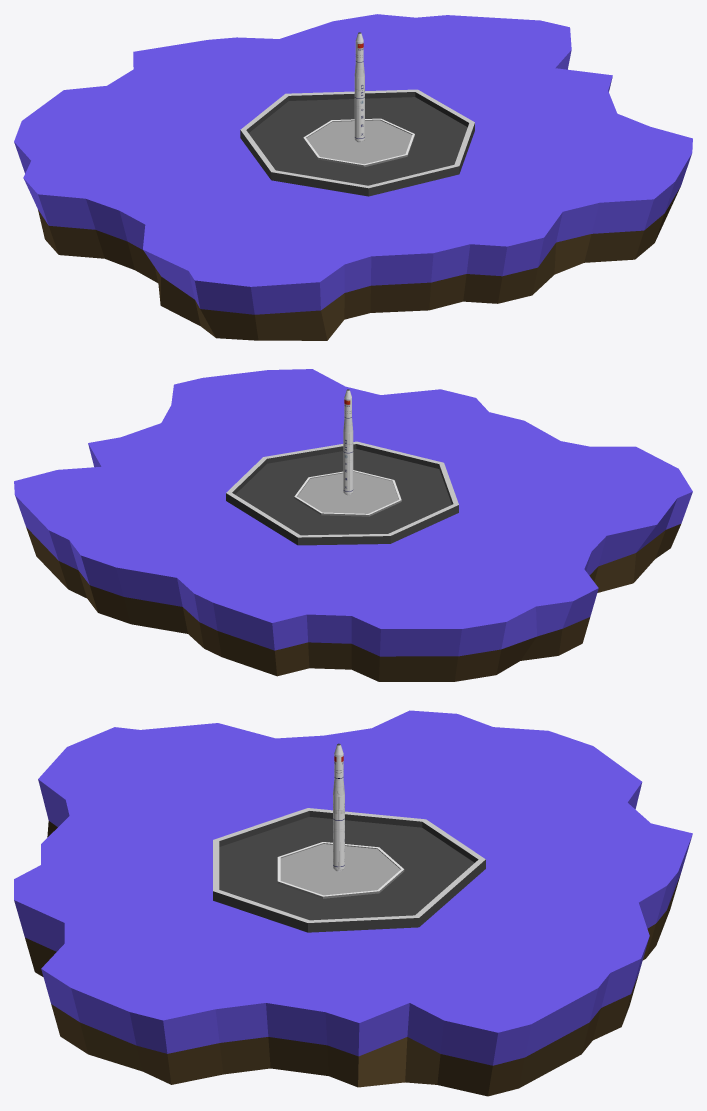
The model's file is longmarch11.gltf.
3 renders of one model, top to bottom at view 1: azimuth 30°, elevation 25°; view 2: azimuth 150°, elevation 25°; view 3: azimuth 270°, elevation 25°, orthographic. The views are drawn at different scales.
Visible parts, largest first — view 1: Plane, Circle, Cylinder.001, Cylinder; view 2: Plane, Circle, Cylinder.001, Cylinder; view 3: Plane, Circle, Cylinder.001, Cylinder.
Boxes of the visible parts, box(x1,y1,x2,y2) form: Plane: box(14, 14, 692, 340); Circle: box(240, 89, 474, 196); Cylinder.001: box(303, 118, 414, 167); Cylinder: box(354, 32, 364, 142); Plane: box(14, 369, 692, 681); Circle: box(226, 441, 458, 545); Cylinder.001: box(294, 470, 401, 516); Cylinder: box(343, 389, 353, 495); Plane: box(14, 710, 692, 1096); Circle: box(213, 808, 485, 932); Cylinder.001: box(277, 842, 404, 898); Cylinder: box(333, 743, 344, 871).
Bounding box in the file's own units: 8.06 × 2.39 × 7.18.
8 materials, 1 textured.
